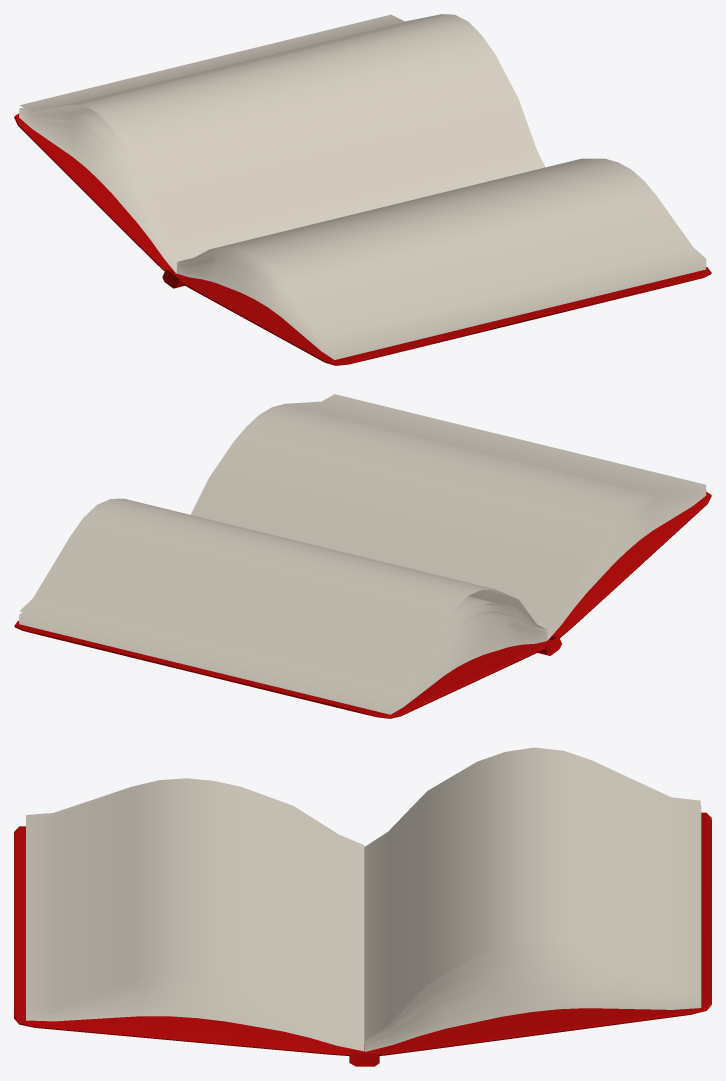
The model's file is libroRest.fbx.
3 views of the same model, one above another, from view 1: azimuth 30°, elevation 25°; view 2: azimuth 150°, elevation 25°; view 3: azimuth 270°, elevation 25° (orthographic). The views are drawn at different scales.
Parts seen in each view (by area): view 1: page36, page77, book_cover_rightside, book_cover_leftside, page35, page37, page32, page38, page55, page53, page52, page46 (+11 smaller); view 2: page77, page36, book_cover_leftside, book_cover_rightside, page35, page0, page1, page33, page18, page17, page34, page16 (+13 smaller); view 3: page77, page36, book_cover_rightside, book_cover_leftside, page35, page32, page34, page37, page0, page33, page55, page18 (+29 smaller).
Boxes of the visible parts, x1,y1,x2,y2 form: page36: [19, 14, 545, 263]; page77: [178, 158, 705, 349]; book_cover_rightside: [178, 267, 711, 365]; book_cover_leftside: [14, 113, 170, 271]; page35: [19, 104, 176, 263]; page37: [177, 269, 705, 359]; page32: [21, 110, 176, 264]; page38: [177, 268, 705, 359]; page55: [178, 260, 705, 355]; page53: [177, 264, 705, 355]; page52: [177, 265, 705, 355]; page46: [177, 267, 705, 357]; page77: [190, 394, 705, 628]; page36: [19, 498, 547, 701]; book_cover_leftside: [14, 621, 546, 718]; book_cover_rightside: [553, 491, 711, 638]; page35: [19, 596, 546, 705]; page0: [19, 624, 547, 714]; page1: [19, 623, 546, 714]; page33: [19, 607, 536, 705]; page18: [20, 619, 546, 709]; page17: [19, 619, 546, 710]; page34: [20, 603, 543, 705]; page16: [19, 619, 546, 710]; page77: [26, 778, 364, 1038]; page36: [364, 747, 700, 1040]; book_cover_rightside: [14, 826, 350, 1056]; book_cover_leftside: [378, 812, 711, 1055]; page35: [365, 804, 700, 1040]; page32: [365, 965, 700, 1041]; page34: [364, 956, 700, 1041]; page37: [26, 1012, 363, 1051]; page0: [365, 1004, 700, 1051]; page33: [364, 961, 698, 1041]; page55: [27, 987, 363, 1045]; page18: [365, 980, 700, 1045].
Bounding box in the file's own units: 14.39 × 4.04 × 21.08.
